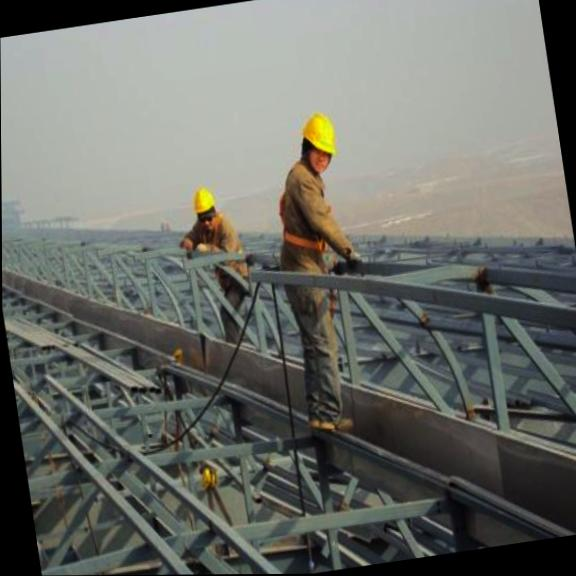no_safety_vest: (269, 158, 344, 299), (187, 214, 247, 287)
